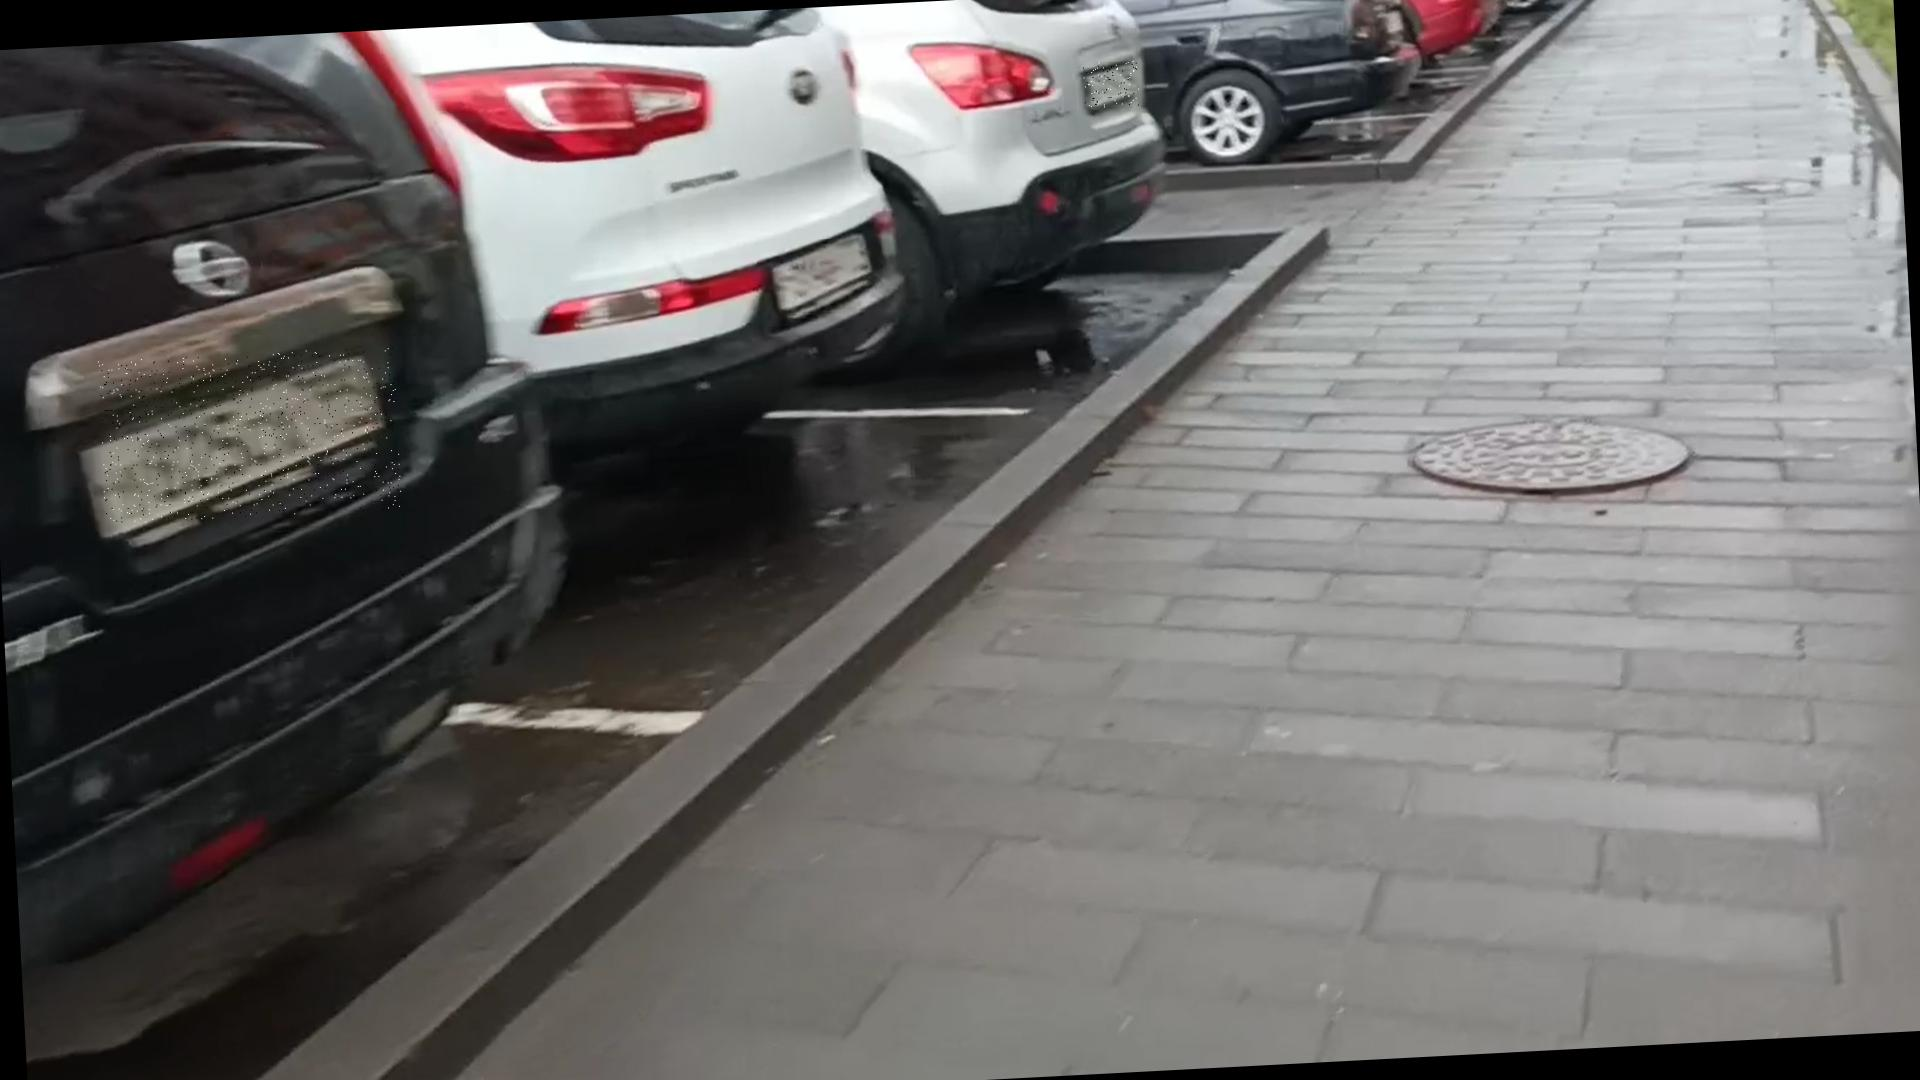plate: (98, 346, 403, 525), (757, 238, 888, 317), (1084, 62, 1141, 110)
